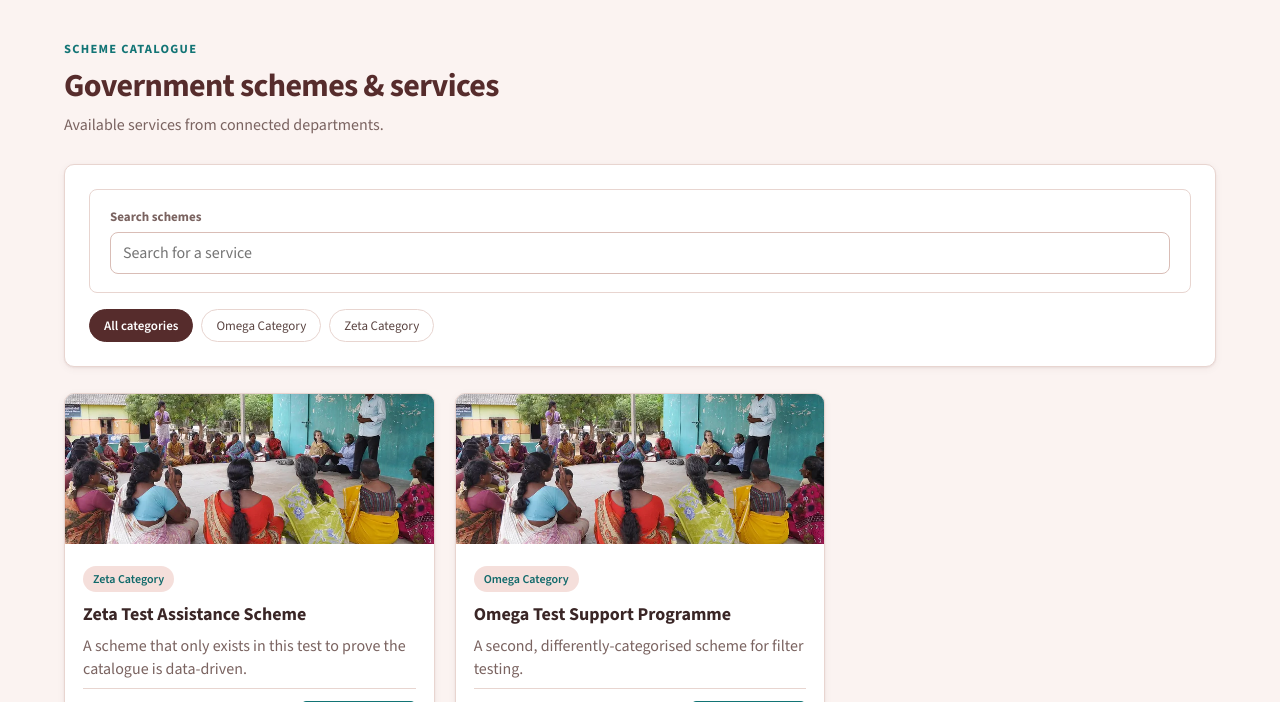
Scenario: SchemesPage › category filter chips are derived from the provided data, not hardcoded, and narrow results
Check: the button "Zeta Category" is shown, box [329,309,434,342]
Click the button "Omega Category" at (261, 325), box [201,309,321,342]
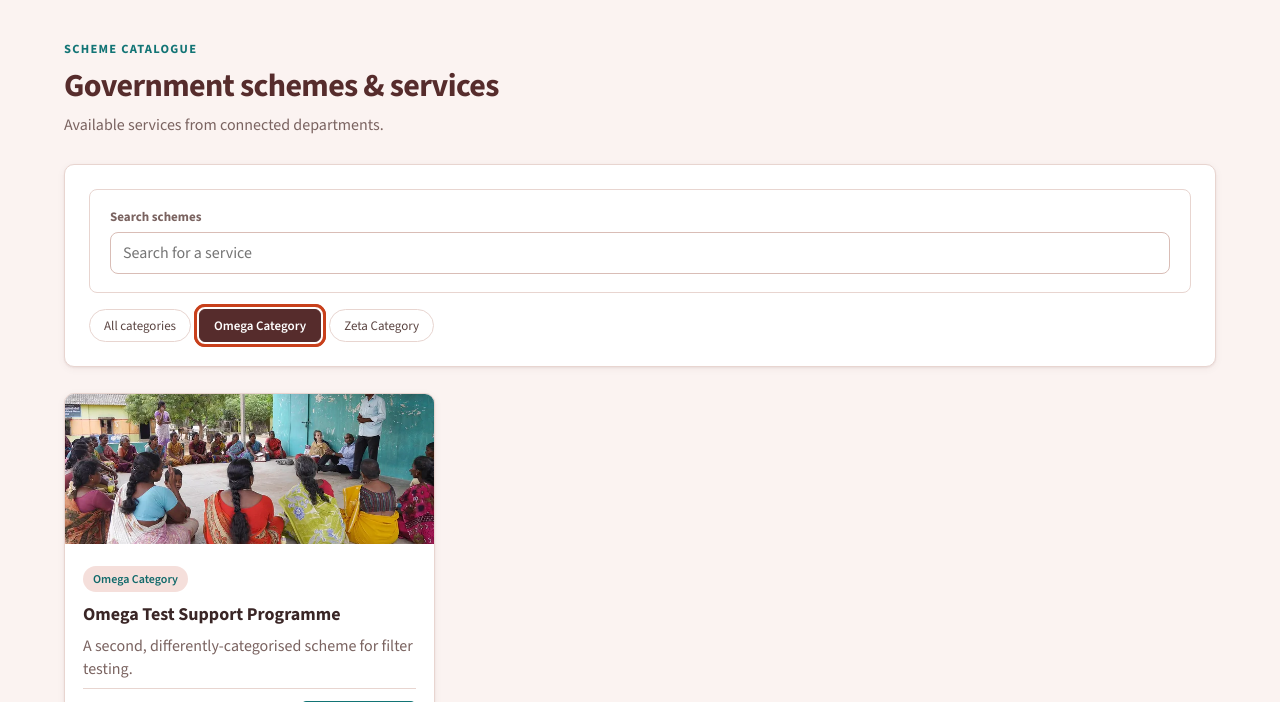
Check: the heading "Omega Test Support Programme" is shown, box [83,602,340,626]
Check: the heading "Zeta Test Assistance Scheme" is gone
